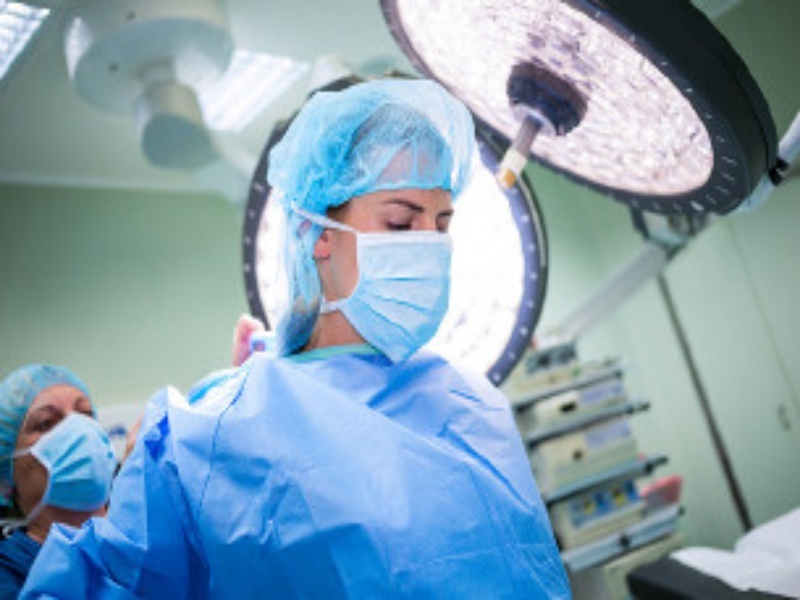mask: (278, 82, 485, 357), (1, 366, 118, 515)
